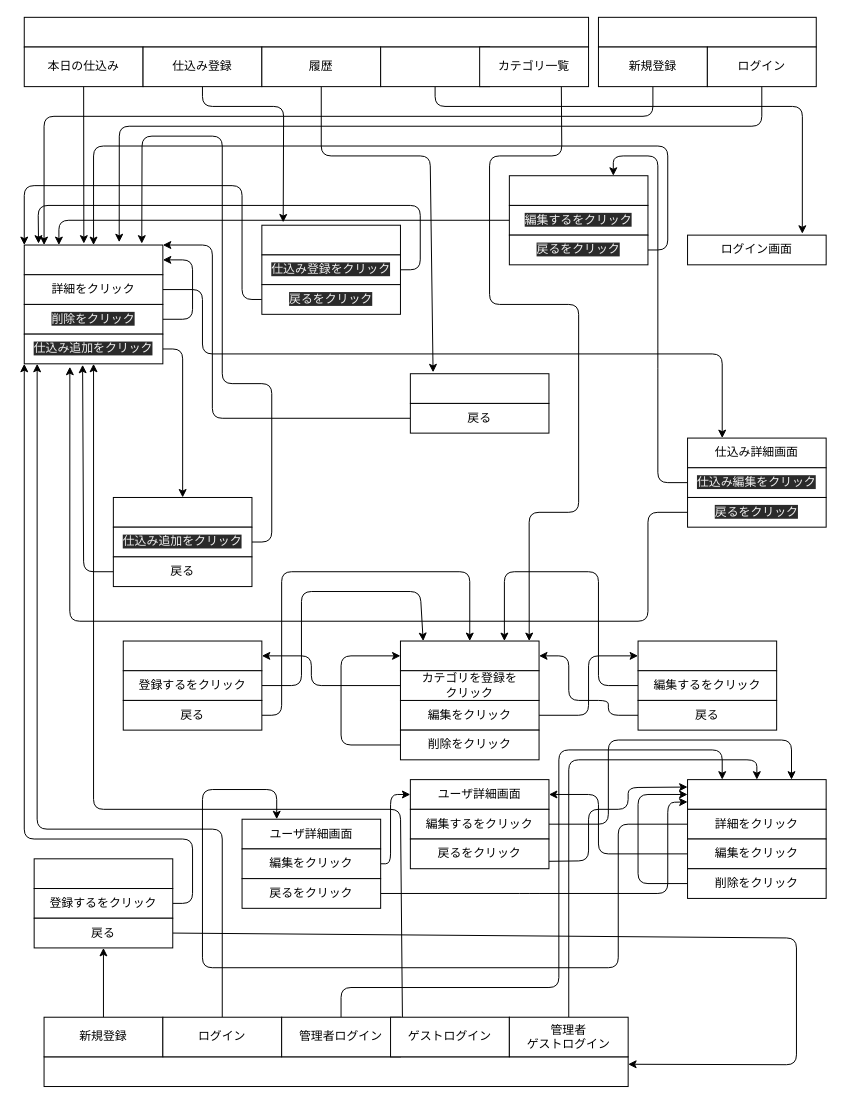
This 843x1104 diagram has some shape labels left out. The centre of each missing label's shape, as x and y in pixels:
カテゴリ一覧画面: the point at 469,655
カテゴリ登録画面: the point at 192,655
カテゴリ編集画面: the point at 707,655
グローバルナビゲーション（ログイン中）: the point at 306,31
トップ画面: the point at 335,1071
ユーザ一覧画面: the point at 756,794
ユーザ登録画面: the point at 103,873
ログアウト: the point at 435,66
ログアウト中: the point at 706,31
仕込み履歴画面: the point at 479,388
仕込み登録画面: the point at 330,239
仕込み編集画面: the point at 578,190
仕込み追加画面: the point at 182,511
本日の仕込み画面: the point at 93,259
